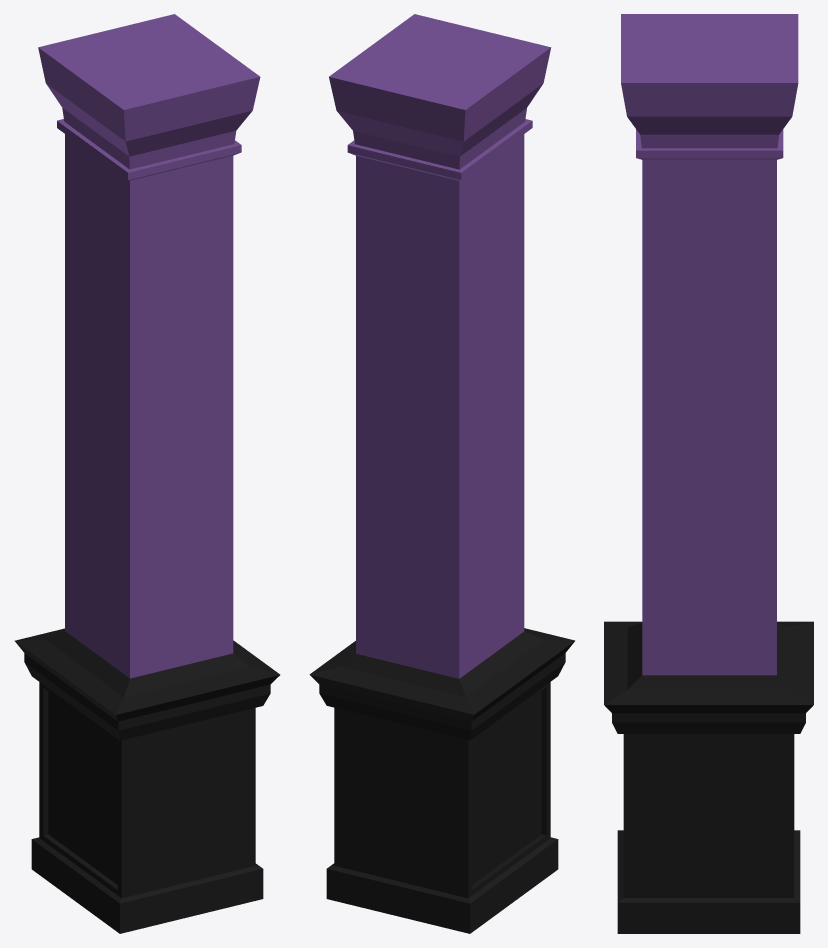
Rendered from pillar.fbx.
3 views of the same model, side by side, from view 1: azimuth 30°, elevation 25°; view 2: azimuth 150°, elevation 25°; view 3: azimuth 270°, elevation 25° (orthographic). The views are drawn at different scales.
Visible parts, largest first — view 1: Cube.088, Cube.086; view 2: Cube.088, Cube.086; view 3: Cube.088, Cube.086.
Part boxes in pixels (bbox=[...]): Cube.088: bbox=[38, 14, 260, 678]; Cube.086: bbox=[14, 628, 280, 933]; Cube.088: bbox=[329, 14, 551, 678]; Cube.086: bbox=[309, 628, 574, 933]; Cube.088: bbox=[621, 14, 798, 675]; Cube.086: bbox=[604, 621, 813, 933].
Size of the model in its own units: 117 by 559 by 125.
